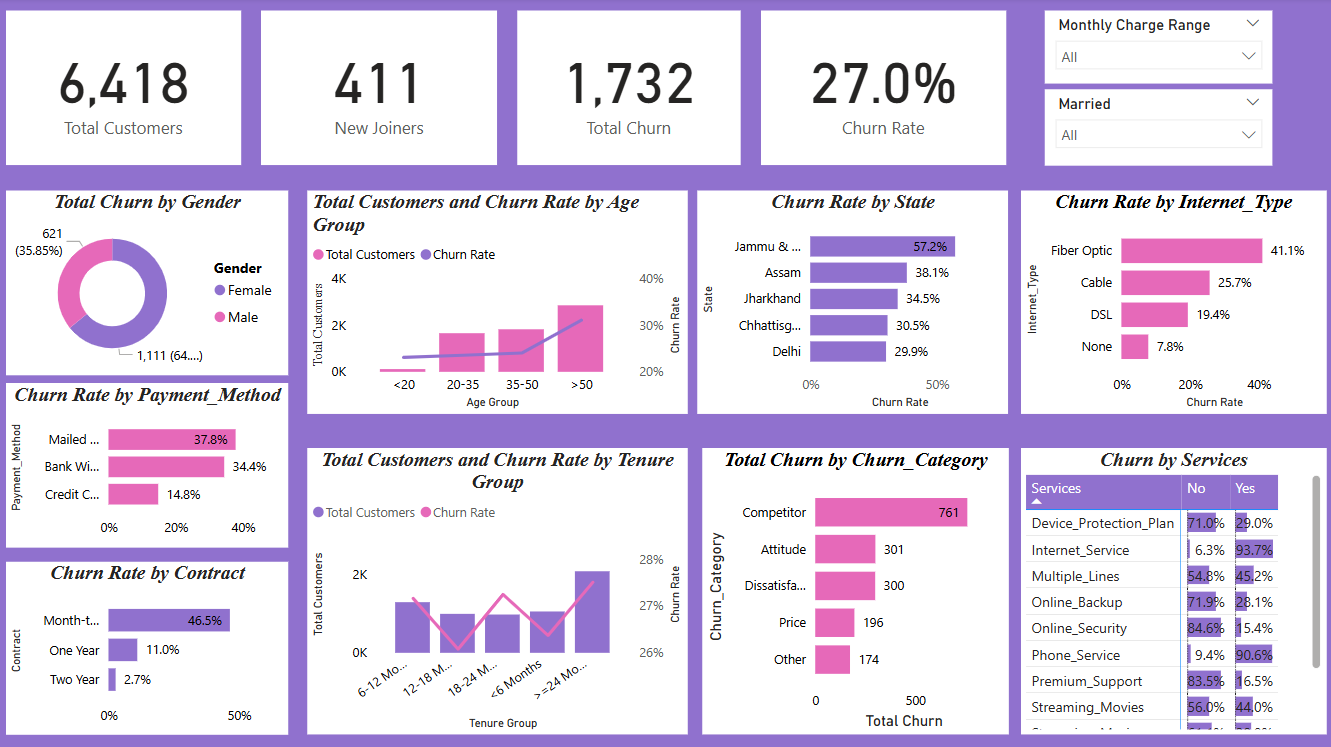

The page's visual inventory and layout, read from the dashboard file:
{"tool":"powerbi","page":{"name":"Summary","canvas":[1280,720],"ordinal":0},"visuals":[{"type":"card","fields":{"Values":["tbl_Measures.Total Customers"]},"box":[9.6,12.3,223.7,146.8],"z":0},{"type":"card","fields":{"Values":["tbl_Measures.New Joiners"]},"box":[252.5,12.3,225,146.8],"z":1000},{"type":"card","fields":{"Values":["tbl_Measures.Total Churn"]},"box":[496.7,12.3,212.7,146.8],"z":2000},{"type":"card","fields":{"Values":["tbl_Measures.Churn Rate"]},"box":[728.6,12.3,233.3,146.8],"z":3000},{"type":"donutChart","fields":{"Category":["prod_Churn.Gender"],"Y":["tbl_Measures.Total Churn"]},"box":[9.6,183.9,269,175.6],"z":4000},{"type":"lineStackedColumnComboChart","fields":{"Category":["mapping_AgeGrp.Age Group"],"Y":["tbl_Measures.Total Customers"],"Y2":["tbl_Measures.Churn Rate"]},"box":[296.4,183.9,362.3,212.7],"z":5000},{"type":"clusteredBarChart","fields":{"Category":["prod_Churn.Payment_Method"],"Y":["tbl_Measures.Churn Rate"]},"box":[9.6,366.4,269,156.4],"z":6000},{"type":"clusteredBarChart","fields":{"Category":["prod_Churn.Contract"],"Y":["tbl_Measures.Churn Rate"]},"box":[9.6,536.5,269,164.7],"z":7000},{"type":"lineStackedColumnComboChart","fields":{"Category":["Mapping_TenureGrp.Tenure Group"],"Y":["tbl_Measures.Total Customers"],"Y2":["tbl_Measures.Churn Rate"]},"box":[296.4,428.1,362.3,273.1],"z":8000},{"type":"clusteredBarChart","fields":{"Category":["prod_Churn.State"],"Y":["tbl_Measures.Churn Rate"]},"box":[668.3,183.9,296.4,212.7],"z":9000},{"type":"clusteredBarChart","fields":{"Category":["prod_Churn.Churn_Category"],"Y":["tbl_Measures.Total Churn"]},"box":[672.4,428.1,292.3,273.1],"z":10000},{"type":"clusteredBarChart","fields":{"Category":["prod_Churn.Internet_Type"],"Y":["tbl_Measures.Churn Rate"]},"box":[975.6,183.9,290.9,212.7],"z":11000},{"type":"pivotTable","title":"Churn by Services","fields":{"Rows":["prod_services.Services"],"Columns":["prod_services.Status"],"Values":["Sum(prod_services.Churn Status)"]},"box":[975.6,428.1,290.9,273.1],"z":12000},{"type":"slicer","fields":{"Values":["prod_Churn.Monthly  Charge Status"]},"box":[999,12.3,216.8,70],"z":13000},{"type":"slicer","fields":{"Values":["prod_Churn.Married"]},"box":[999,86.4,216.8,72.7],"z":14000}]}

Visuals, with their boxes in screenshot pixels (x1, y1, x2, y2), scaled from the page's 1280x720 canvas onto the 1331x747 screenshot:
card - tbl_Measures.Total Customers: box=[10, 13, 243, 165]
card - tbl_Measures.New Joiners: box=[263, 13, 497, 165]
card - tbl_Measures.Total Churn: box=[516, 13, 738, 165]
card - tbl_Measures.Churn Rate: box=[758, 13, 1000, 165]
donutChart - prod_Churn.Gender x tbl_Measures.Total Churn: box=[10, 191, 290, 373]
lineStackedColumnComboChart - mapping_AgeGrp.Age Group x tbl_Measures.Total Customers: box=[308, 191, 685, 411]
clusteredBarChart - prod_Churn.Payment_Method x tbl_Measures.Churn Rate: box=[10, 380, 290, 542]
clusteredBarChart - prod_Churn.Contract x tbl_Measures.Churn Rate: box=[10, 557, 290, 727]
lineStackedColumnComboChart - Mapping_TenureGrp.Tenure Group x tbl_Measures.Total Customers: box=[308, 444, 685, 727]
clusteredBarChart - prod_Churn.State x tbl_Measures.Churn Rate: box=[695, 191, 1003, 411]
clusteredBarChart - prod_Churn.Churn_Category x tbl_Measures.Total Churn: box=[699, 444, 1003, 727]
clusteredBarChart - prod_Churn.Internet_Type x tbl_Measures.Churn Rate: box=[1014, 191, 1317, 411]
"Churn by Services" pivotTable: box=[1014, 444, 1317, 727]
slicer - prod_Churn.Monthly  Charge Status: box=[1039, 13, 1264, 85]
slicer - prod_Churn.Married: box=[1039, 90, 1264, 165]
